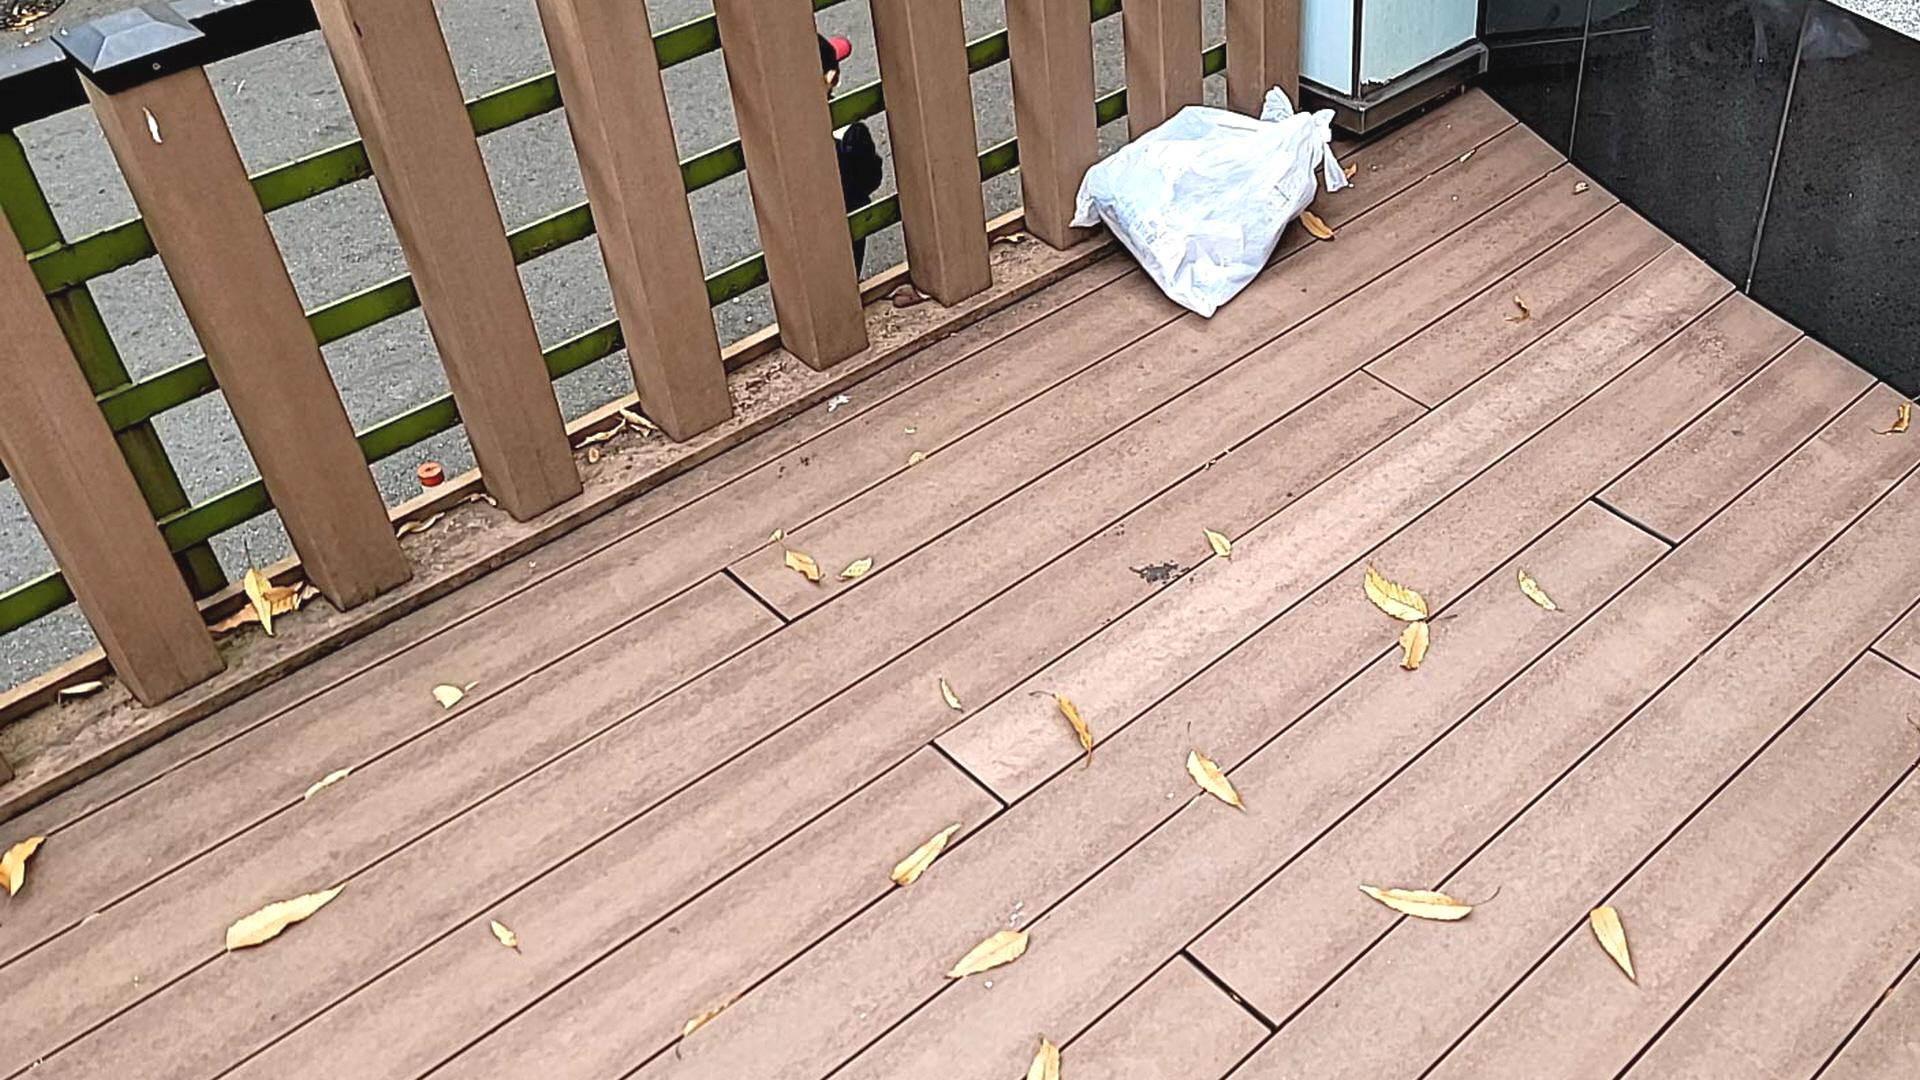white_bag: (1063, 65, 1356, 328)
